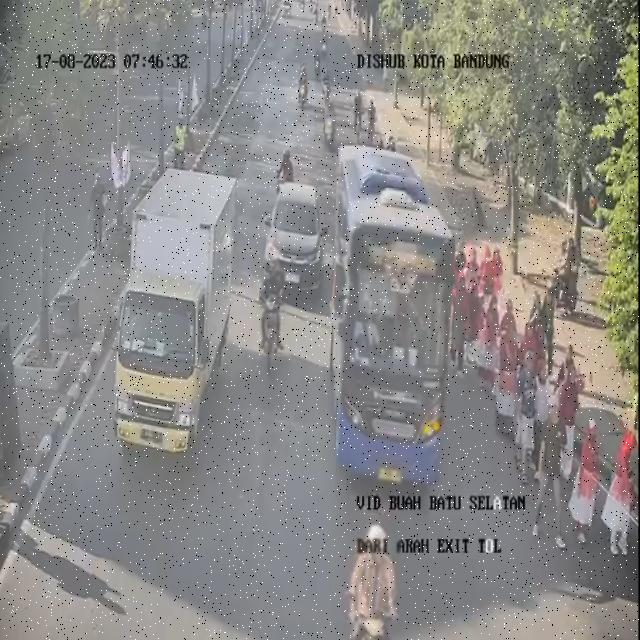bus: (336, 188, 448, 485)
cars: (266, 180, 324, 296)
motorcycle: (344, 515, 401, 640), (259, 254, 289, 359), (325, 98, 344, 152), (298, 60, 313, 110), (316, 32, 332, 59)
truck: (120, 167, 236, 451)
